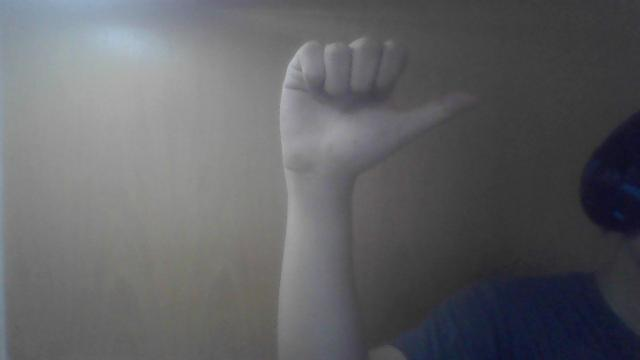left: (270, 28, 484, 182)
